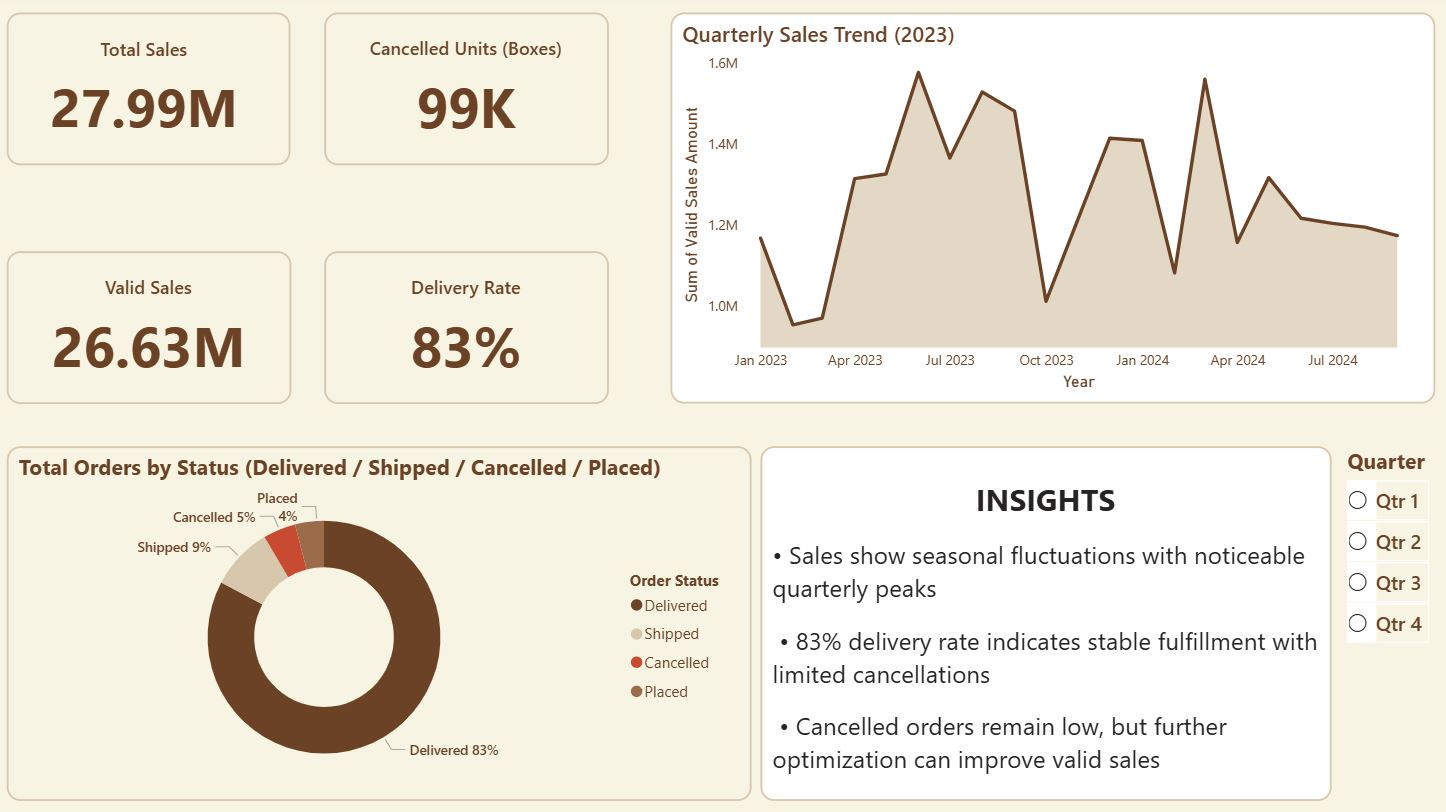

This screenshot's page, from the dashboard's own definition file:
{"tool":"powerbi","page":{"name":"Executive Overview","canvas":[1280,720],"ordinal":0},"visuals":[{"type":"cardVisual","fields":{"Data":["Sum(Table1.Amount)"]},"box":[7.2,15.6,249.3,134.2],"z":0},{"type":"cardVisual","fields":{"Data":["Sum(Table1.Valid Sales Amount)"]},"box":[7.2,225.3,250.5,134.2],"z":1000},{"type":"lineChart","title":"Quarterly Sales Trend (2023)","fields":{"Category":["Table1.Date.Variation.Date Hierarchy.Year","Table1.Date.Variation.Date Hierarchy.Month"],"Y":["Sum(Table1.Valid Sales Amount)"]},"box":[591.6,15.4,672.9,344.2],"z":4000},{"type":"donutChart","title":"Total Orders by Status (Delivered / Shipped / Cancelled / Placed)","fields":{"Y":["Table1.Total Orders"],"Category":["Table1.Order Status"]},"box":[7.7,396.9,655.3,312.3],"z":5000},{"type":"listSlicer","fields":{"Values":["Table1.Date.Variation.Date Hierarchy.Quarter"]},"box":[1182,396.9,82.5,323.3],"z":6000},{"type":"cardVisual","fields":{"Data":["Table1.Cancelled_Boxes"]},"box":[286.4,15.6,250.5,134.2],"z":8000},{"type":"textbox","box":[670.7,396.9,502.5,312.3],"z":10000},{"type":"cardVisual","fields":{"Data":["Table1.Delivered Orders %"]},"box":[286.4,225.3,250.5,134.2],"z":11000}]}

Visuals, with their boxes in screenshot pixels (x1, y1, x2, y2), scaled from the page's 1280x720 canvas onto the 1446x812 screenshot:
cardVisual - Sum(Table1.Amount): bbox=[8, 18, 290, 169]
cardVisual - Sum(Table1.Valid Sales Amount): bbox=[8, 254, 291, 405]
"Quarterly Sales Trend (2023)" lineChart: bbox=[668, 17, 1428, 406]
"Total Orders by Status (Delivered / Shipped / Cancelled / Placed)" donutChart: bbox=[9, 448, 749, 800]
listSlicer - Table1.Date.Variation.Date Hierarchy.Quarter: bbox=[1335, 448, 1428, 811]
cardVisual - Table1.Cancelled_Boxes: bbox=[324, 18, 607, 169]
textbox: bbox=[758, 448, 1325, 800]
cardVisual - Table1.Delivered Orders %: bbox=[324, 254, 607, 405]
